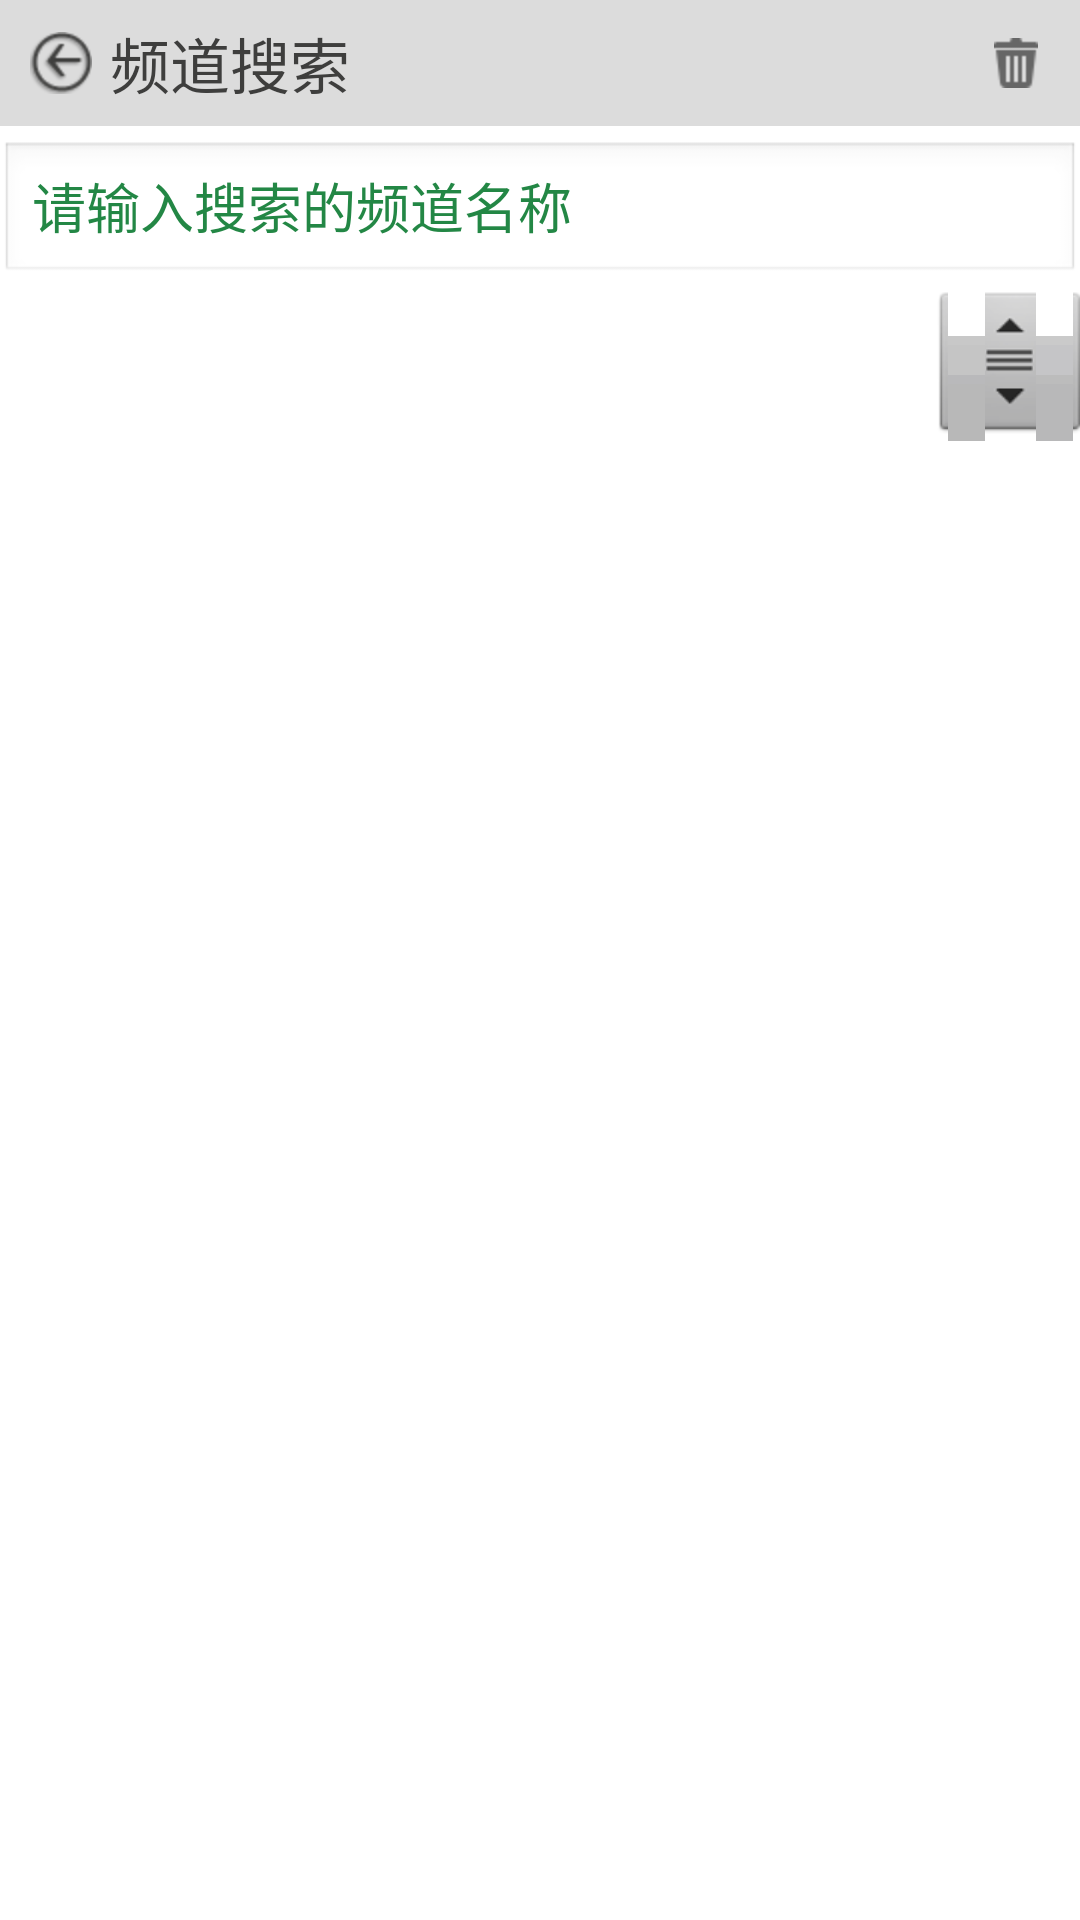

Screen size 1080*1920. Icon name, then its center in pixels as (x=x, y=y):
sel delete: (x=1016, y=63)
